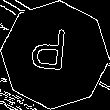P_S: (34, 28, 76, 82)
